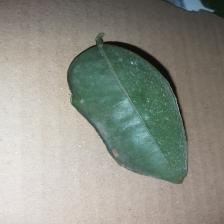healthy: (39, 33, 224, 202)
